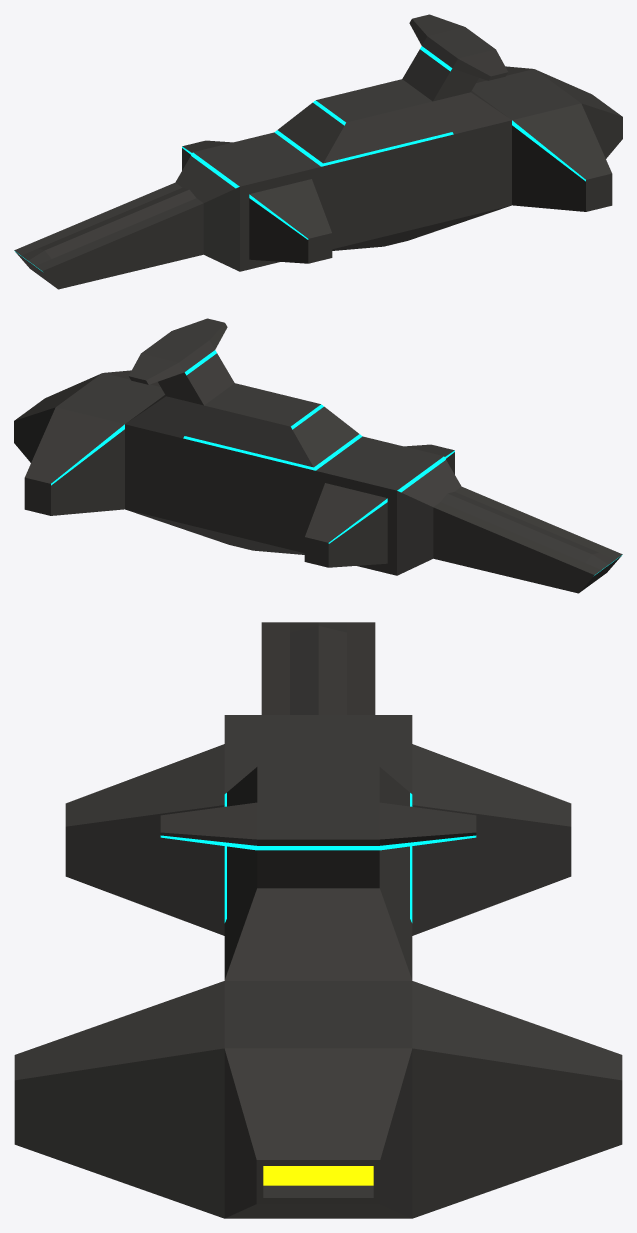
File: BasicDestroyer.fbx
The picture shows the model from 3 angles, top to bottom: view 1: azimuth 30°, elevation 25°; view 2: azimuth 150°, elevation 25°; view 3: azimuth 270°, elevation 25°; orthographic projection. The views are drawn at different scales.
Visible parts, largest first — view 1: Destroyer; view 2: Destroyer; view 3: Destroyer.
Part boxes in pixels (x1,y1,x2,y2): Destroyer: (14, 14, 622, 289); Destroyer: (14, 318, 622, 593); Destroyer: (14, 622, 622, 1218).
Bounding box in the file's own units: 1424 × 427 × 646.
